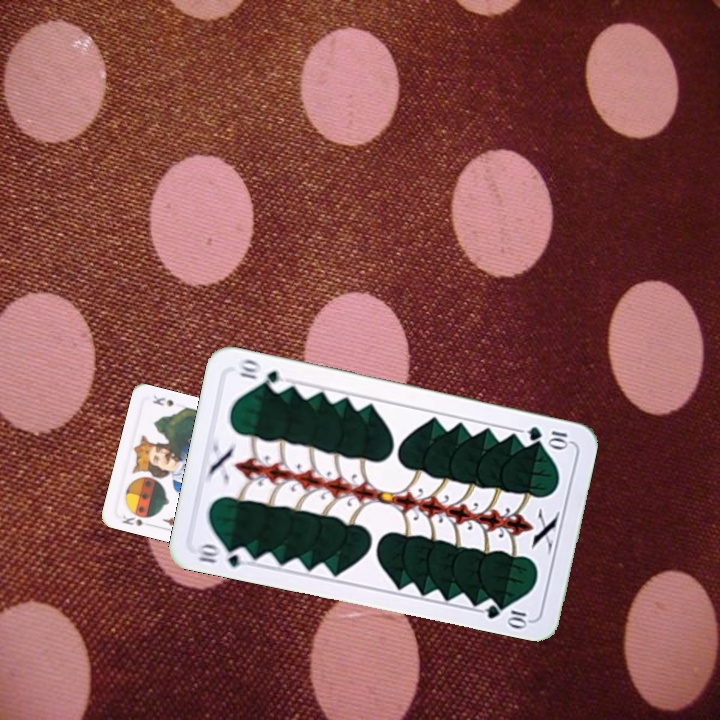G10: (192, 539, 253, 570), (524, 422, 572, 450)
SK: (118, 508, 156, 529)
